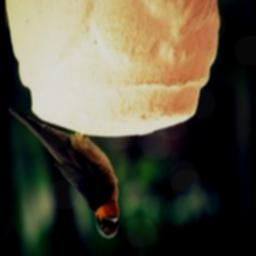Swallow: (8, 105, 121, 243)
